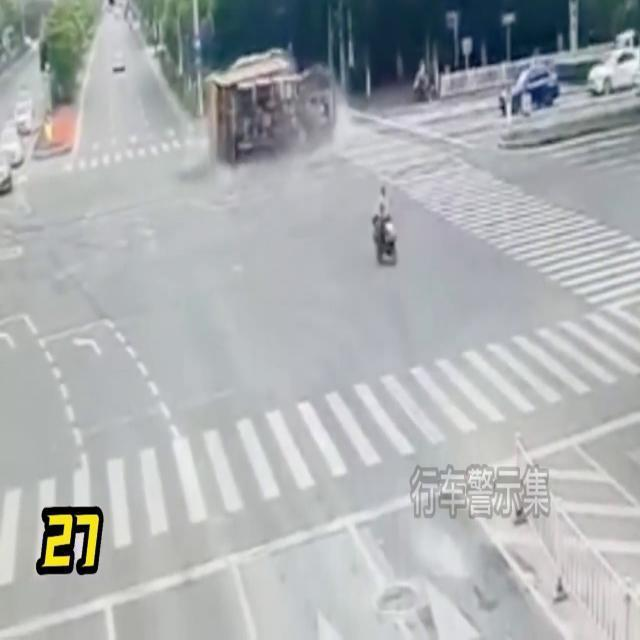accident: (210, 56, 336, 164)
